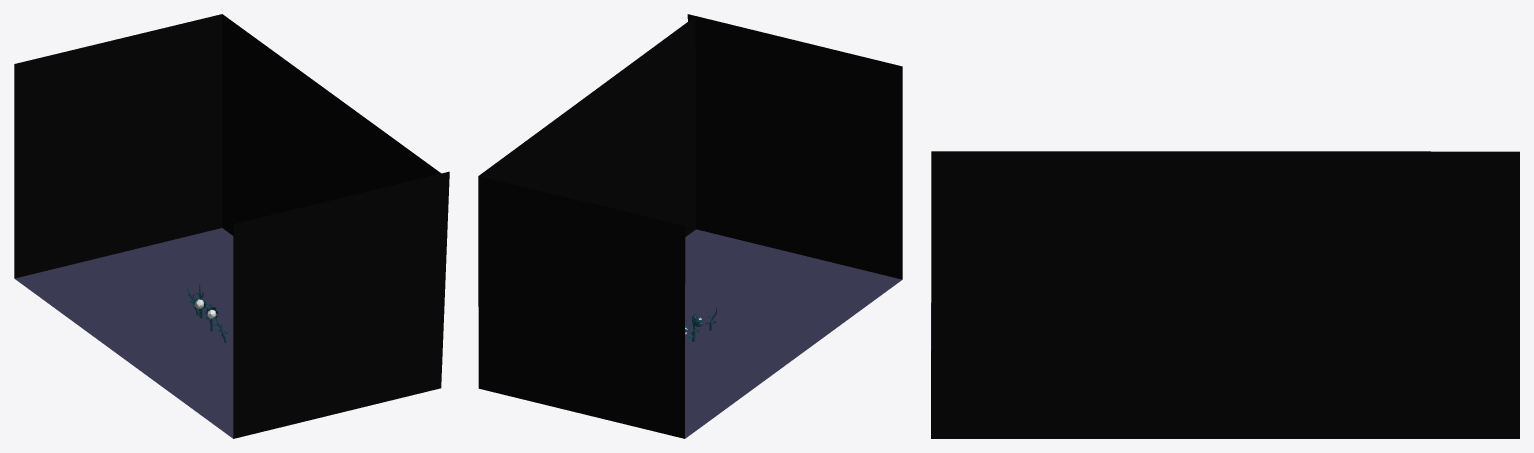
File: flores.fbx
3 views of the same model, side by side, from view 1: azimuth 30°, elevation 25°; view 2: azimuth 150°, elevation 25°; view 3: azimuth 270°, elevation 25° (orthographic). The views are drawn at different scales.
Visible parts, largest first — view 1: fundo; view 2: fundo; view 3: fundo.
Part boxes in pixels (x1=…): fundo: x1=14, y1=14, x2=449, y2=438; fundo: x1=478, y1=14, x2=902, y2=438; fundo: x1=931, y1=151, x2=1519, y2=438.
Bounding box in the file's own units: 45318 × 43046 × 79378.
